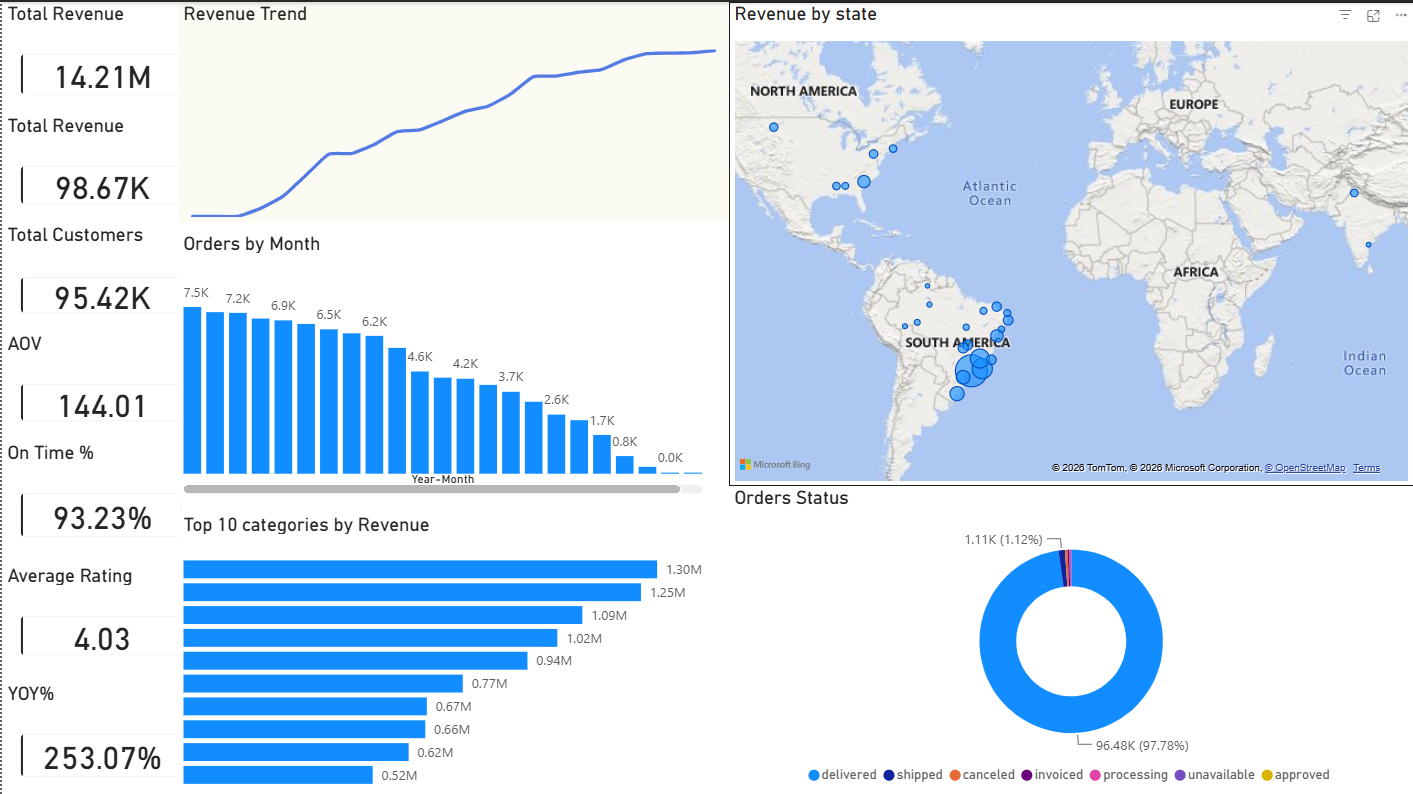

Layout of this report page (visuals, bound fields, positions):
{"tool":"powerbi","page":{"name":"OVERVIEW(EXECUTIVE DASHBOARD)","canvas":[1280,720],"ordinal":0},"visuals":[{"type":"cardVisual","title":"Total Revenue","fields":{"Data":["public bi_fact_sales.Revenue"]},"box":[0,0,180.9,101.2],"z":0},{"type":"cardVisual","title":"Total Revenue","fields":{"Data":["public bi_fact_sales.Orders"]},"box":[0,101.2,180.9,99.2],"z":1000},{"type":"cardVisual","title":"Total Customers","fields":{"Data":["public bi_fact_sales.Customers"]},"box":[0,200.4,180.9,99.2],"z":2000},{"type":"cardVisual","title":"AOV","fields":{"Data":["public bi_fact_sales.AOV"]},"box":[0,299.6,180.9,98.2],"z":3000},{"type":"cardVisual","title":"On Time %","fields":{"Data":["public bi_fact_sales.On-time %"]},"box":[0,397.8,180.9,104.1],"z":4000},{"type":"cardVisual","title":"Average Rating","fields":{"Data":["public bi_fact_sales.Avg Rating"]},"box":[0,509.7,180.9,100.2],"z":5000},{"type":"cardVisual","title":"YOY%","fields":{"Data":["public bi_fact_sales.YoY %"]},"box":[0,616.7,180.9,103.1],"z":6000},{"type":"lineChart","title":"Revenue Trend","fields":{"Category":["DimDate.Year-Month"],"Y":["public bi_fact_sales.Revenue"]},"box":[159.5,0,499.9,200.4],"z":7000},{"type":"clusteredColumnChart","title":"Orders by Month","fields":{"Category":["DimDate.Year-Month"],"Y":["public bi_fact_sales.Orders"]},"box":[159.5,208.1,480.5,242.2],"z":8000},{"type":"clusteredBarChart","title":"Top 10 categories by Revenue","fields":{"Category":["public bi_fact_sales.category"],"Y":["public bi_fact_sales.Revenue"]},"box":[159.5,463,480.5,250.9],"z":9000},{"type":"map","title":"Revenue by state","fields":{"Category":["public bi_fact_sales.customer_state"],"Size":["public bi_fact_sales.Revenue"]},"box":[659.5,0,620.5,438.7],"z":10000},{"type":"donutChart","title":"Orders Status","fields":{"Y":["public bi_fact_sales.Orders"],"Category":["public bi_fact_sales.order_status"]},"box":[659.5,438.7,620.5,281.1],"z":11000}]}

Visuals, with their boxes in screenshot pixels (x1, y1, x2, y2), scaled from the page's 1280x720 canvas onto the 1413x794 screenshot:
"Total Revenue" cardVisual: select_region(0, 0, 200, 112)
"Total Revenue" cardVisual: select_region(0, 112, 200, 221)
"Total Customers" cardVisual: select_region(0, 221, 200, 330)
"AOV" cardVisual: select_region(0, 330, 200, 439)
"On Time %" cardVisual: select_region(0, 439, 200, 553)
"Average Rating" cardVisual: select_region(0, 562, 200, 673)
"YOY%" cardVisual: select_region(0, 680, 200, 793)
"Revenue Trend" lineChart: select_region(176, 0, 728, 221)
"Orders by Month" clusteredColumnChart: select_region(176, 229, 706, 497)
"Top 10 categories by Revenue" clusteredBarChart: select_region(176, 511, 706, 787)
"Revenue by state" map: select_region(728, 0, 1412, 484)
"Orders Status" donutChart: select_region(728, 484, 1412, 793)
